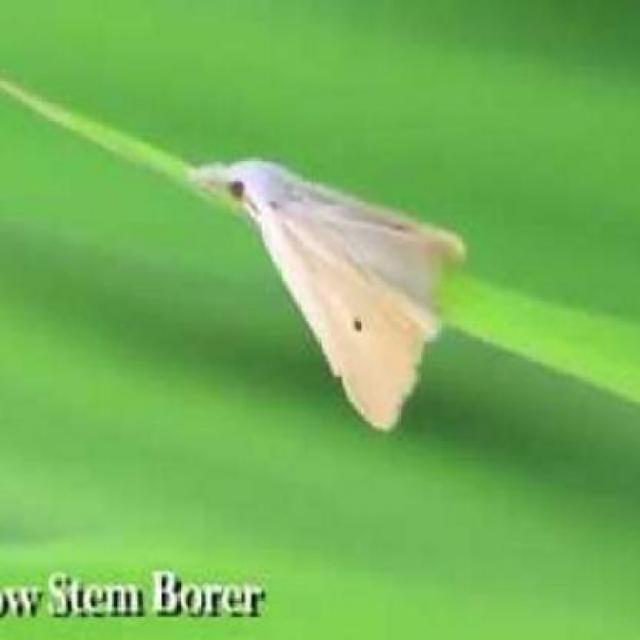stem-borer: (189, 154, 466, 432)
